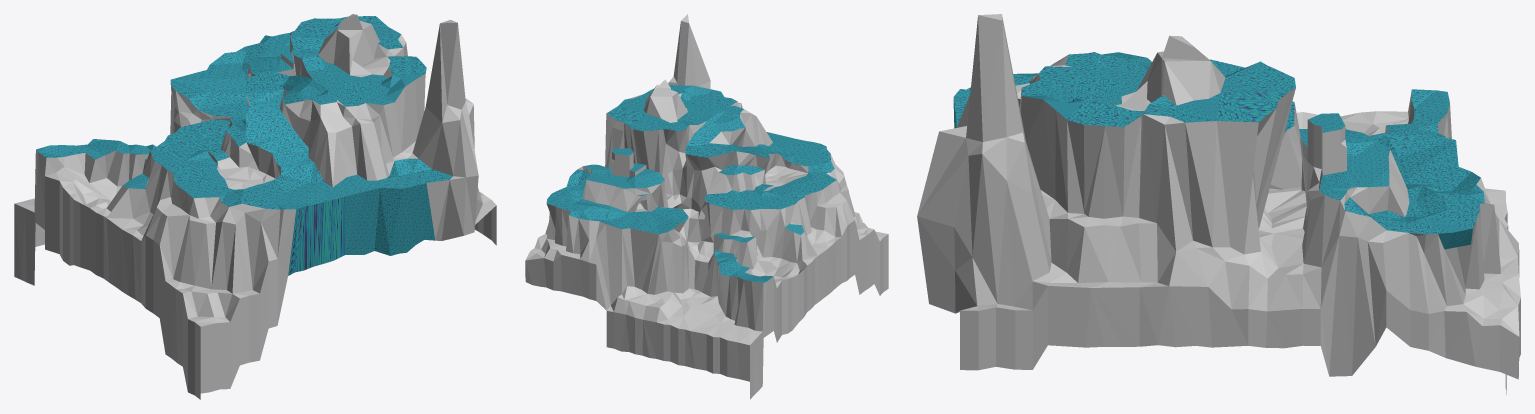
File: Terrain_Cliff 1.fbx
The picture shows the model from 3 angles, left to right: view 1: azimuth 30°, elevation 25°; view 2: azimuth 150°, elevation 25°; view 3: azimuth 270°, elevation 25°; orthographic projection. The views are drawn at different scales.
Visible parts, largest first — view 1: Mountains; view 2: Mountains; view 3: Mountains.
Boxes of the visible parts, box(x1,y1,x2,y2) form: Mountains: box(14, 14, 496, 399); Mountains: box(525, 14, 888, 399); Mountains: box(917, 14, 1520, 394).
Size of the model in its own units: 9320 by 9467 by 10997.
